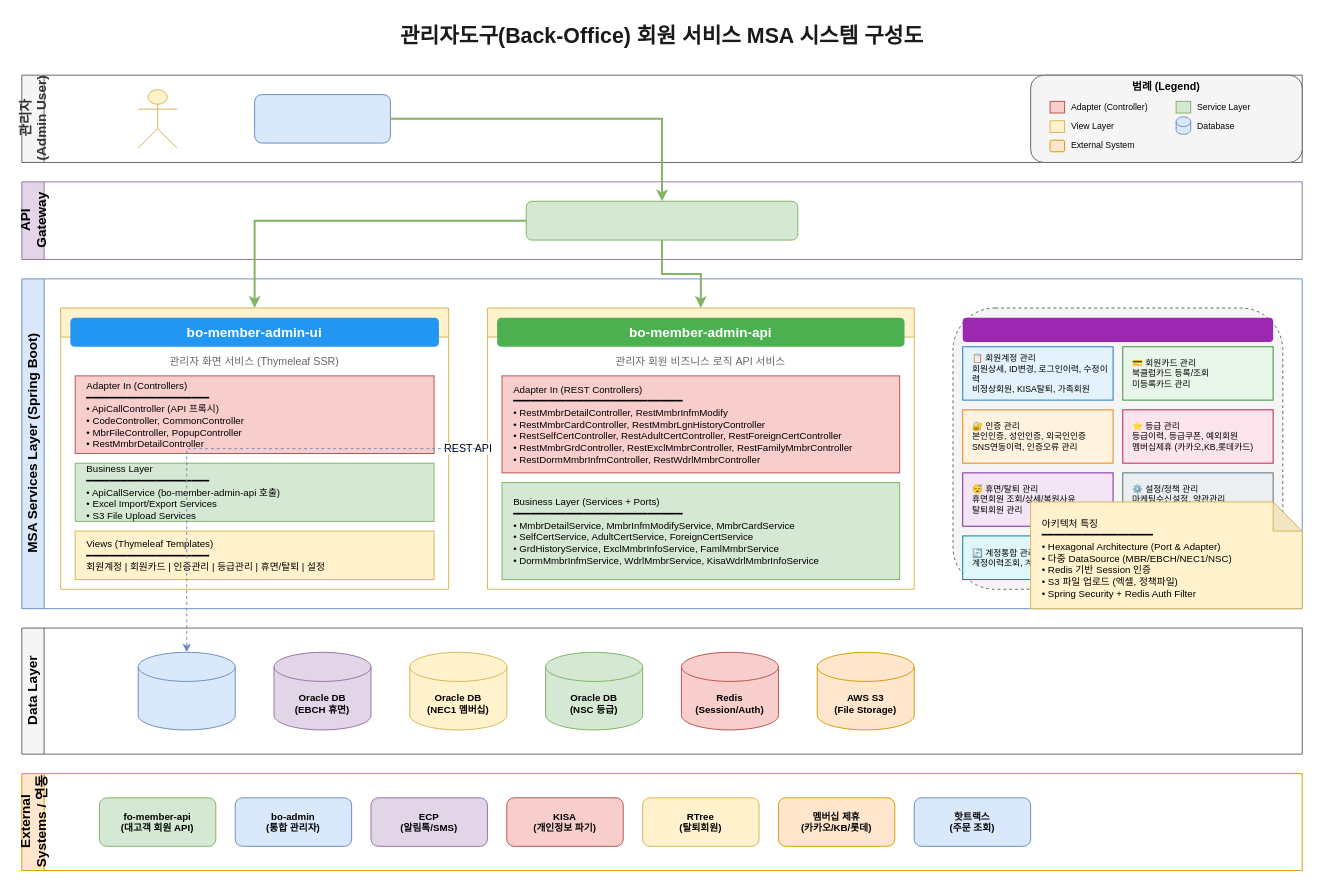
The diagram is 1319 pixels wide and 888 high, and some of its shapes have lost their labels. Each missing label, with the centre of its shape:
"Back-Office 관리자" belongs at [157,118].
"K8s Ingress Controller" belongs at [661,220].
"Oracle DB (MBR Reader)" belongs at [186,690].
"관리자 브라우저 (Internal Network)" belongs at [322,118].
"주요 관리 기능" belongs at [1117,329].
